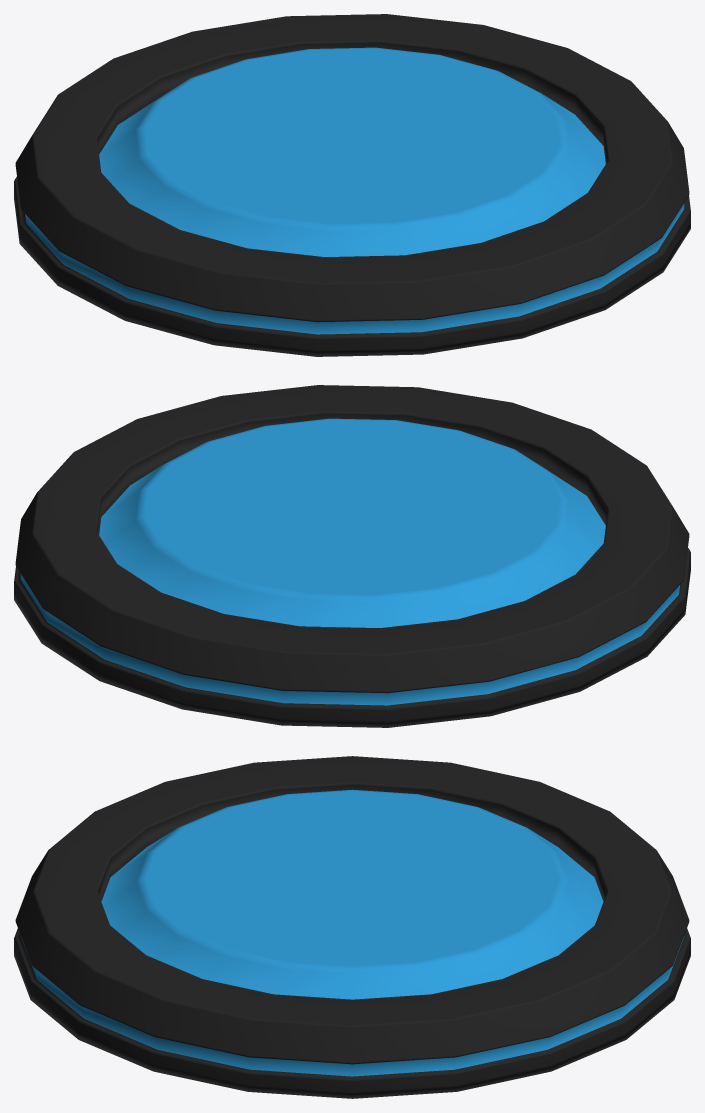
The model's file is bluejump.fbx.
The picture shows the model from 3 angles, top to bottom: view 1: azimuth 30°, elevation 25°; view 2: azimuth 150°, elevation 25°; view 3: azimuth 270°, elevation 25°; orthographic projection.
Parts seen in each view (by area): view 1: pCylinder6; view 2: pCylinder6; view 3: pCylinder6.
Boxes of the visible parts, x1,y1,x2,y2 form: pCylinder6: (14,14,690,356); pCylinder6: (14,385,690,727); pCylinder6: (14,756,690,1098).
Bounding box in the file's own units: 31.25 × 3.93 × 31.25.
Materials: 2 (1 with a texture image).
